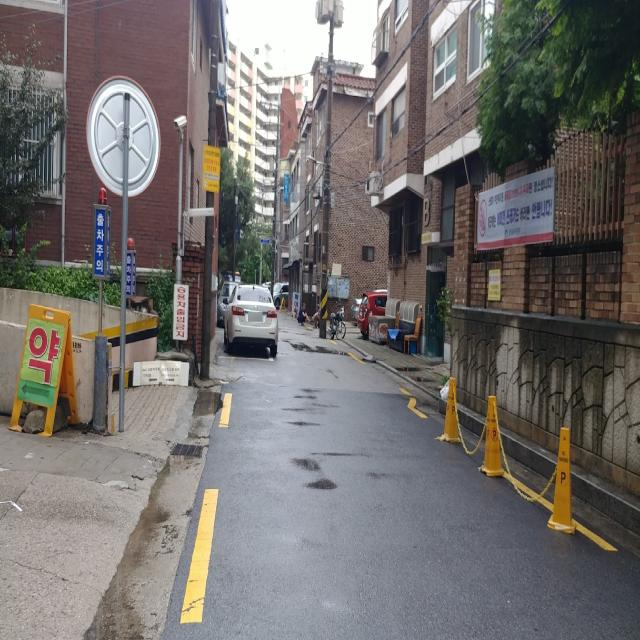car: (224, 284, 278, 356), (357, 292, 387, 339), (217, 282, 246, 328), (350, 290, 387, 323)
motorbike: (328, 295, 346, 340)
